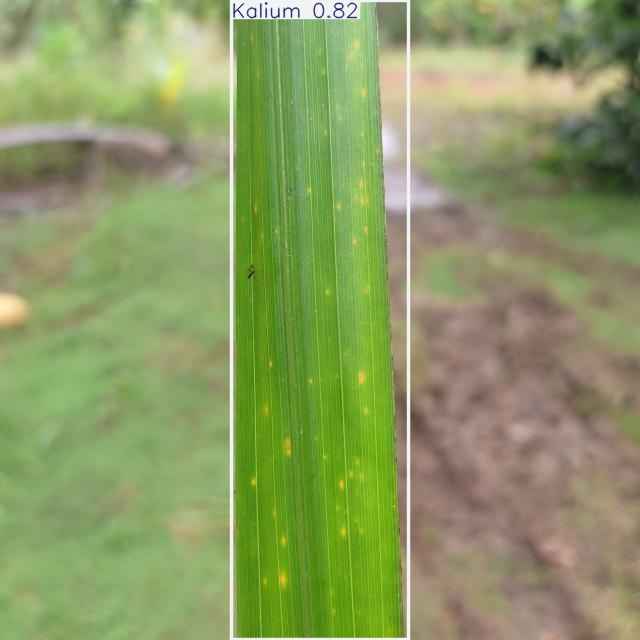Kalium: (232, 0, 409, 640)
